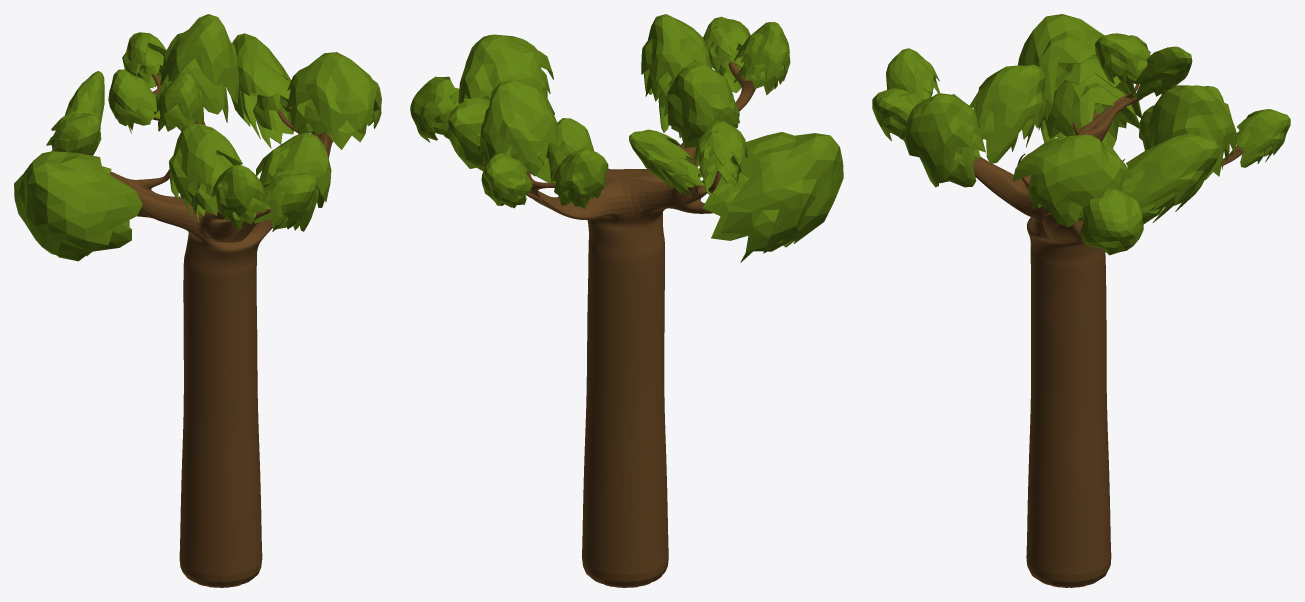
The model's file is Baobab.fbx.
3 views of the same model, side by side, from view 1: azimuth 30°, elevation 25°; view 2: azimuth 150°, elevation 25°; view 3: azimuth 270°, elevation 25° (orthographic). The views are drawn at different scales.
Visible parts, largest first — view 1: tree; view 2: tree; view 3: tree.
Part boxes in pixels (left/top/right/bottom): tree: left=14, top=14, right=381, bottom=587; tree: left=410, top=14, right=843, bottom=587; tree: left=872, top=14, right=1290, bottom=587.
Bounding box in the file's own units: 871 × 1119 × 819.
